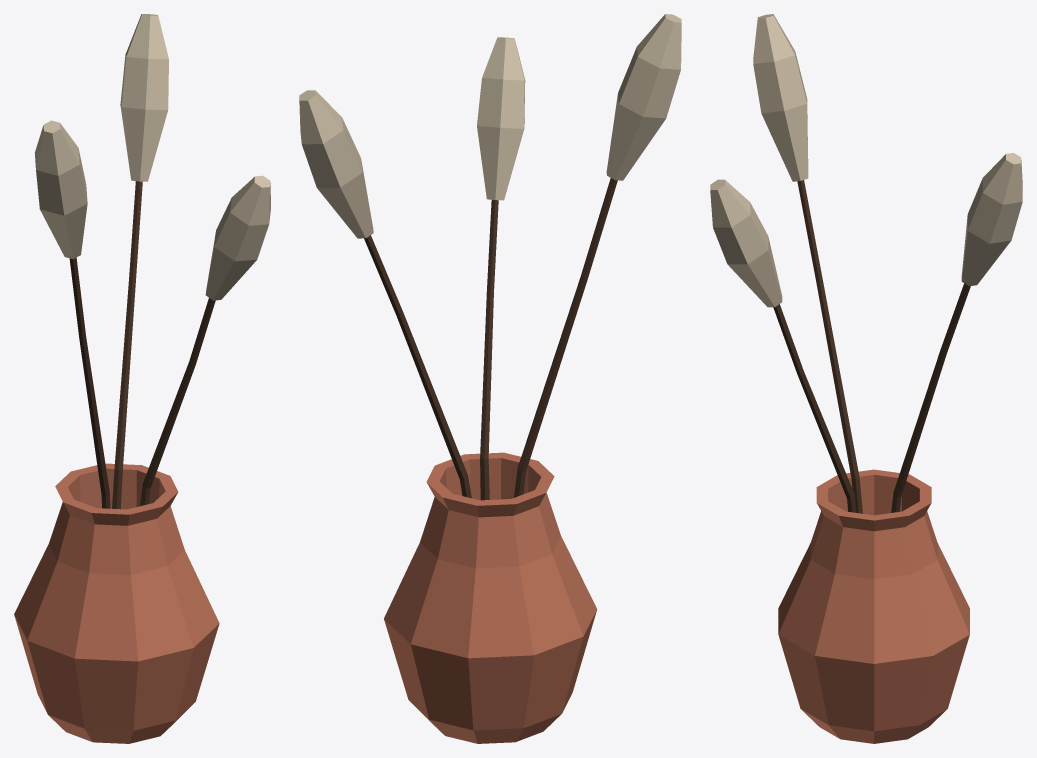
File: FN_Vase_Stems.glb
3 renders of one model, left to right at view 1: azimuth 30°, elevation 25°; view 2: azimuth 150°, elevation 25°; view 3: azimuth 270°, elevation 25°, orthographic. The views are drawn at different scales.
Parts seen in each view (by area): view 1: FN_Vase_Stems; view 2: FN_Vase_Stems; view 3: FN_Vase_Stems.
Part boxes in pixels (left/top/right/bottom): FN_Vase_Stems: left=14, top=14, right=270, bottom=743; FN_Vase_Stems: left=299, top=14, right=681, bottom=743; FN_Vase_Stems: left=710, top=14, right=1022, bottom=743.
Size of the model in its own units: 0.362 by 0.9236 by 0.4035.
1 material, 1 textured.
